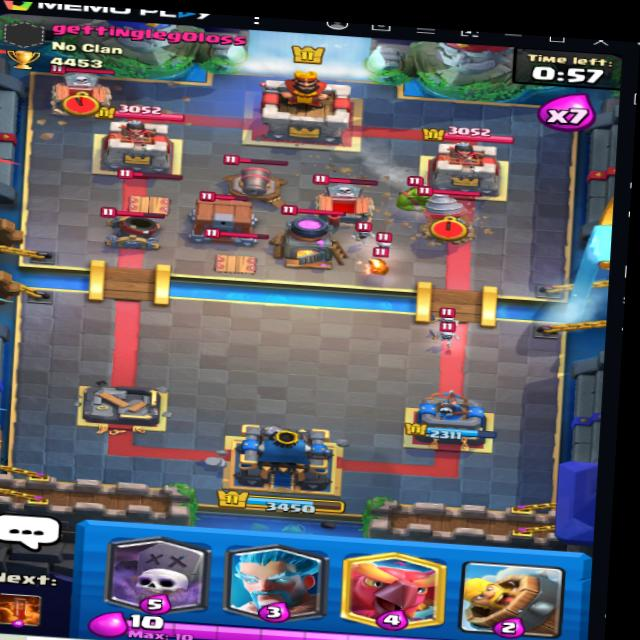brawler: (388, 170, 453, 213)
cannon: (213, 149, 302, 212)
fire-spirit: (363, 248, 395, 277)
furnace: (265, 202, 360, 270)
goblin-cage: (173, 188, 268, 249)
goblin-drill: (412, 184, 479, 243)
mortar: (93, 200, 168, 256)
skeleton: (375, 229, 405, 254), (435, 307, 464, 332), (430, 322, 457, 348), (349, 223, 379, 240)
tesla-closed: (113, 160, 184, 219), (201, 226, 275, 277)
tombstone: (47, 65, 127, 120), (308, 171, 383, 224)
